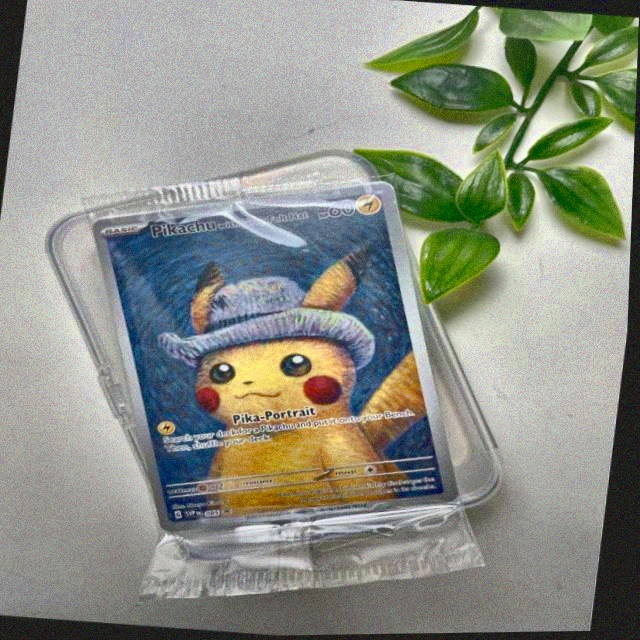card: (94, 184, 462, 532)
